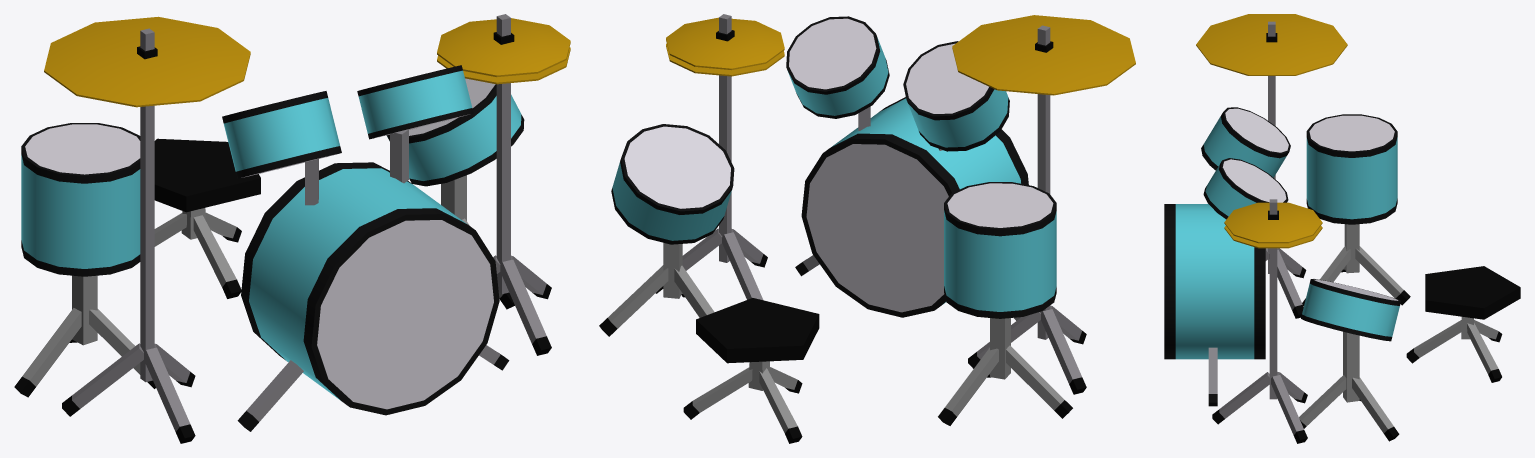
Rendered from Drum Kit.fbx.
The picture shows the model from 3 angles, left to right: view 1: azimuth 30°, elevation 25°; view 2: azimuth 150°, elevation 25°; view 3: azimuth 270°, elevation 25°; orthographic projection. The views are drawn at different scales.
Parts seen in each view (by area): view 1: Drum Kit; view 2: Drum Kit; view 3: Drum Kit.
Boxes of the visible parts, <box> form: Drum Kit: <box>14,14,570,443</box>; Drum Kit: <box>599,14,1135,443</box>; Drum Kit: <box>1164,14,1520,443</box>.
Bounding box in the file's own units: 1.52 × 1.09 × 1.28.
